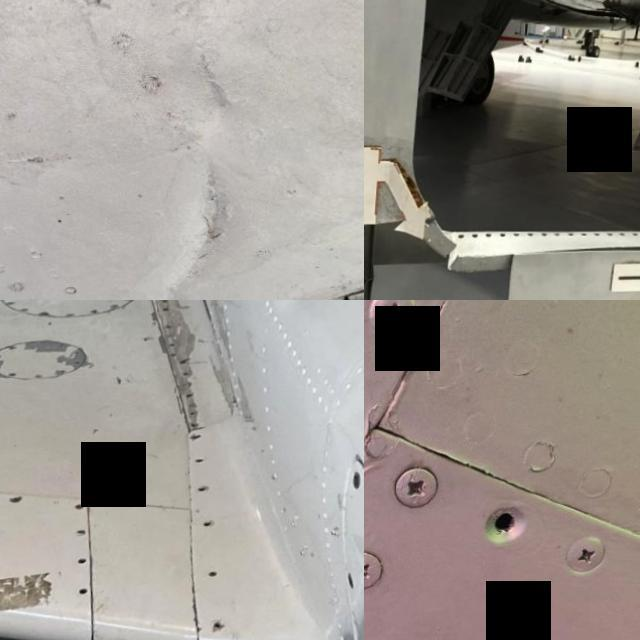Crack: (531, 241, 640, 256), (448, 241, 468, 270)
Dent: (128, 134, 269, 300)
Missing_Fastener: (472, 482, 558, 562), (206, 514, 226, 530), (218, 618, 236, 634), (200, 482, 218, 493), (84, 586, 98, 598), (199, 452, 212, 462), (194, 432, 210, 440), (80, 556, 96, 563)
